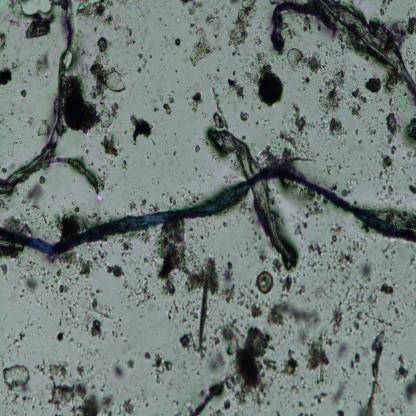Air bubble: (18, 0, 53, 14)
Background material: (153, 222, 223, 359), (32, 357, 113, 415), (224, 318, 277, 406), (327, 262, 385, 339), (65, 72, 118, 139), (59, 284, 109, 340), (174, 373, 236, 414), (359, 327, 387, 415), (245, 49, 286, 108), (265, 296, 320, 338), (318, 68, 350, 140), (312, 226, 367, 266), (280, 100, 313, 164), (0, 256, 47, 300), (332, 341, 362, 406), (180, 0, 226, 39), (120, 264, 157, 312), (228, 0, 258, 58), (51, 204, 101, 238), (90, 54, 126, 100), (306, 328, 334, 384), (289, 196, 327, 237), (52, 251, 96, 284), (2, 362, 32, 406), (286, 44, 324, 77), (393, 348, 416, 401), (143, 348, 175, 384), (75, 0, 116, 28), (187, 24, 213, 68), (117, 230, 150, 258), (129, 113, 156, 147), (22, 174, 46, 212), (384, 105, 402, 155), (5, 210, 37, 238), (238, 283, 264, 317), (97, 248, 125, 278), (270, 253, 291, 293), (25, 15, 56, 42), (209, 86, 226, 132), (221, 259, 237, 303), (166, 188, 203, 207), (349, 88, 370, 120), (119, 1, 152, 21), (279, 348, 301, 378), (376, 152, 396, 182), (126, 197, 162, 213), (100, 133, 123, 158), (34, 50, 53, 80), (392, 15, 416, 38), (289, 379, 306, 410), (6, 0, 22, 31), (160, 32, 182, 54), (362, 75, 385, 96), (5, 329, 28, 350), (227, 77, 247, 101), (118, 23, 138, 46), (186, 90, 205, 114), (403, 115, 416, 147), (158, 92, 174, 116), (340, 179, 359, 198), (378, 280, 396, 298), (117, 398, 136, 415), (96, 36, 112, 55), (366, 115, 382, 134), (9, 56, 24, 76), (35, 116, 49, 137), (312, 387, 326, 406), (136, 52, 147, 76), (0, 68, 13, 88), (378, 0, 394, 16), (112, 363, 126, 379), (0, 32, 8, 54), (125, 355, 136, 370), (406, 181, 416, 196), (239, 110, 250, 123), (56, 330, 66, 344), (119, 159, 129, 172), (194, 144, 200, 155), (335, 409, 346, 415), (27, 116, 35, 124), (20, 90, 27, 99)
Cellulose filter fibre: (2, 3, 74, 198), (208, 130, 296, 268), (321, 0, 416, 90), (269, 3, 323, 54), (40, 156, 102, 193)
Cotton: (0, 166, 416, 258)
Diatom: (256, 271, 274, 294)
